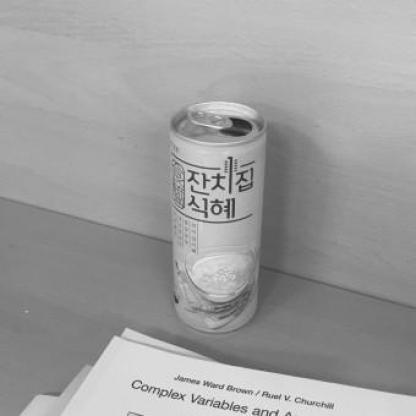alumunium_can: (158, 95, 278, 338)
